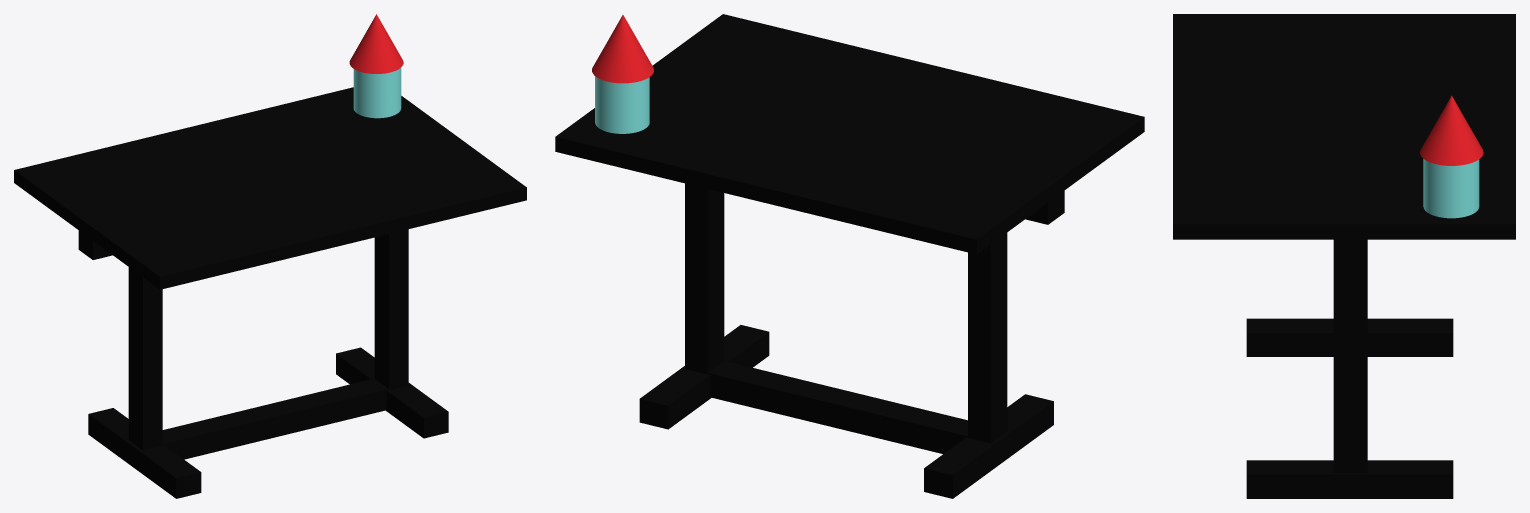
The model's file is meja.glb.
3 renders of one model, left to right at view 1: azimuth 30°, elevation 25°; view 2: azimuth 150°, elevation 25°; view 3: azimuth 270°, elevation 25°, orthographic. The views are drawn at different scales.
Visible parts, largest first — view 1: Object_17, Object_15, Object_9, Object_11, Object_7, node_id88_10, Object_5; view 2: Object_17, Object_15, Object_9, Object_11, Object_7, node_id88_10, Object_5, Object_13; view 3: Object_17, Object_5, Object_11, Object_7, node_id88_10, Object_13.
Boxes of the visible parts, bbox=[...] form: Object_17: bbox=[14, 87, 526, 289]; Object_15: bbox=[143, 378, 399, 459]; Object_9: bbox=[128, 267, 162, 449]; Object_11: bbox=[374, 229, 408, 388]; Object_7: bbox=[88, 408, 201, 498]; node_id88_10: bbox=[349, 14, 403, 118]; Object_5: bbox=[336, 347, 448, 438]; Object_17: bbox=[555, 14, 1144, 254]; Object_15: bbox=[707, 361, 989, 453]; Object_9: bbox=[968, 233, 1007, 443]; Object_11: bbox=[685, 183, 724, 374]; Object_7: bbox=[924, 394, 1053, 498]; node_id88_10: bbox=[592, 15, 653, 133]; Object_5: bbox=[639, 325, 769, 429]; Object_13: bbox=[1025, 190, 1064, 224]; Object_17: bbox=[1173, 14, 1515, 239]; Object_5: bbox=[1246, 460, 1453, 498]; Object_11: bbox=[1333, 261, 1367, 472]; Object_7: bbox=[1246, 318, 1453, 356]; node_id88_10: bbox=[1420, 95, 1483, 218]; Object_13: bbox=[1333, 239, 1367, 261].
Size of the model in its own units: 1.48 by 1.35 by 1.02.
Materials: 6 (6 with a texture image).
